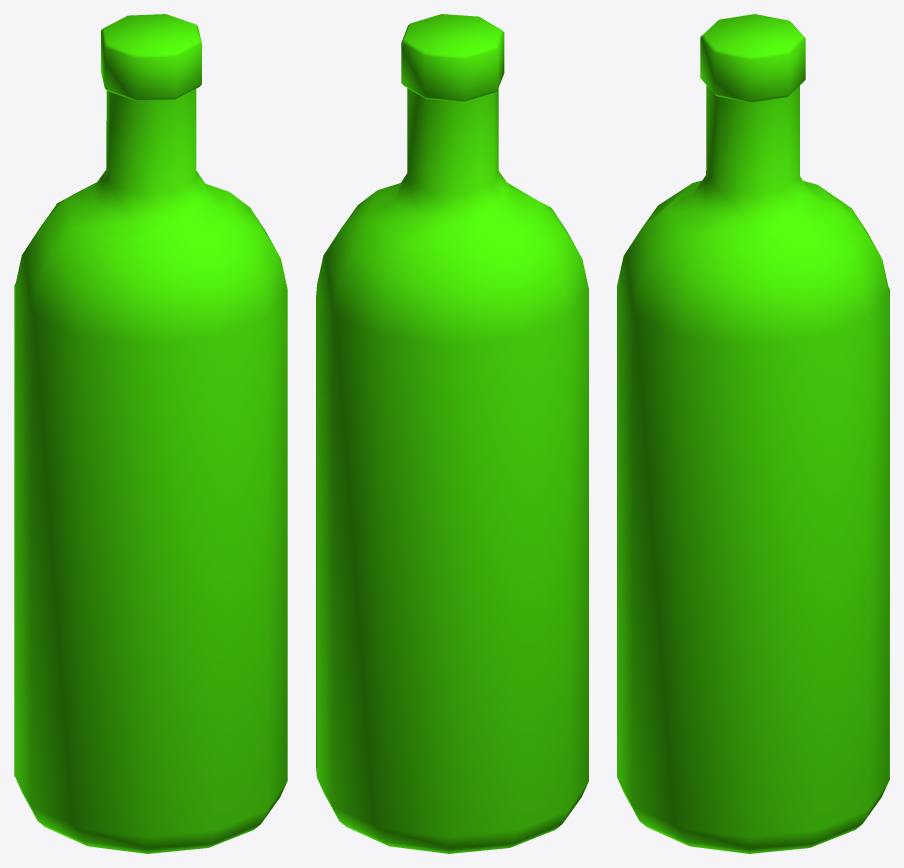
File: 20_vodka_absolut.gltf
3 renders of one model, left to right at view 1: azimuth 30°, elevation 25°; view 2: azimuth 150°, elevation 25°; view 3: azimuth 270°, elevation 25°, orthographic.
Visible parts, largest first — view 1: Absolut_Vodka_Atlas_0, Absolut_Vodka_Sprite_Sprites_0; view 2: Absolut_Vodka_Atlas_0; view 3: Absolut_Vodka_Atlas_0.
Boxes of the visible parts, x1,y1,x2,y2 form: Absolut_Vodka_Atlas_0: (15, 14, 287, 853); Absolut_Vodka_Sprite_Sprites_0: (14, 182, 96, 776); Absolut_Vodka_Atlas_0: (317, 14, 588, 853); Absolut_Vodka_Atlas_0: (617, 14, 888, 853).
Size of the model in its own units: 7.9 by 24.46 by 7.87.
Materials: 2 (2 with a texture image).
